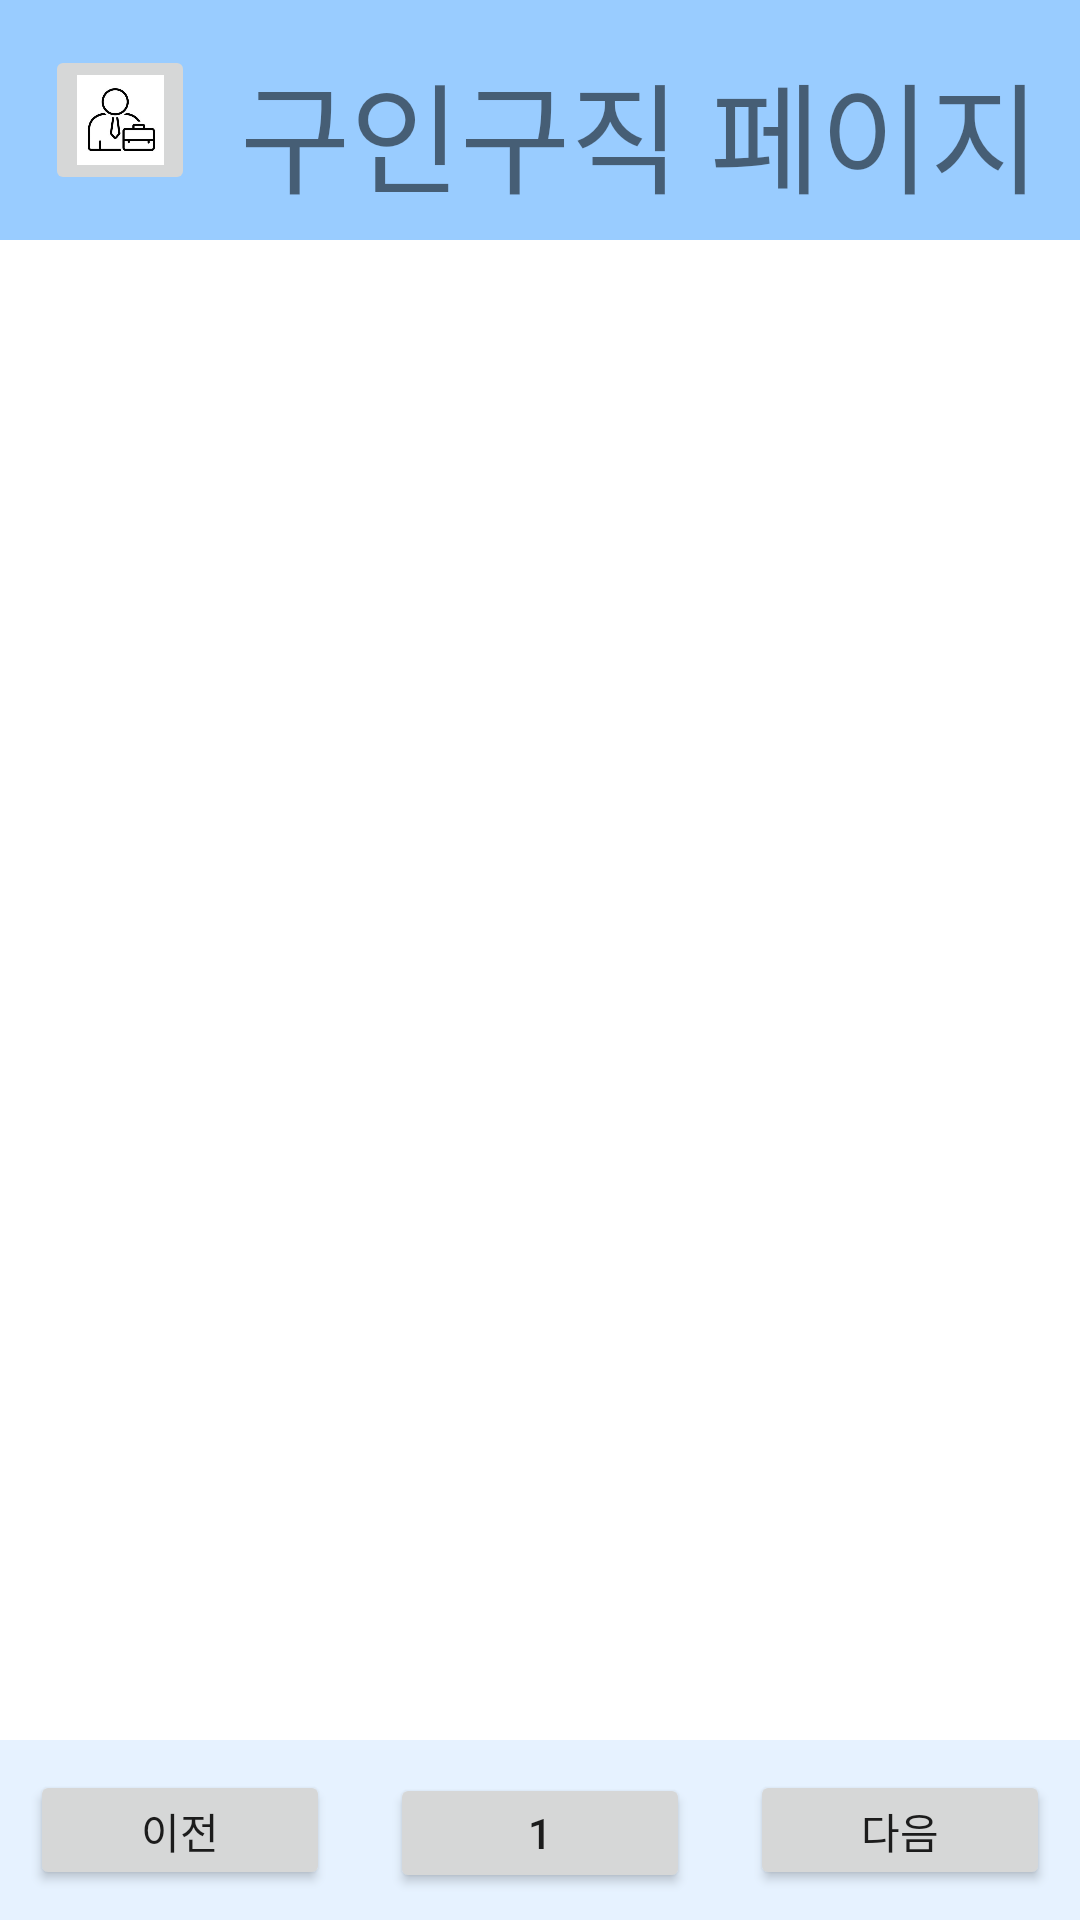

Icon bounding boxes for this 1080*1920 phone screenshot, format Rect(x1, y1, x2, y2):
job: Rect(57, 63, 183, 177)
